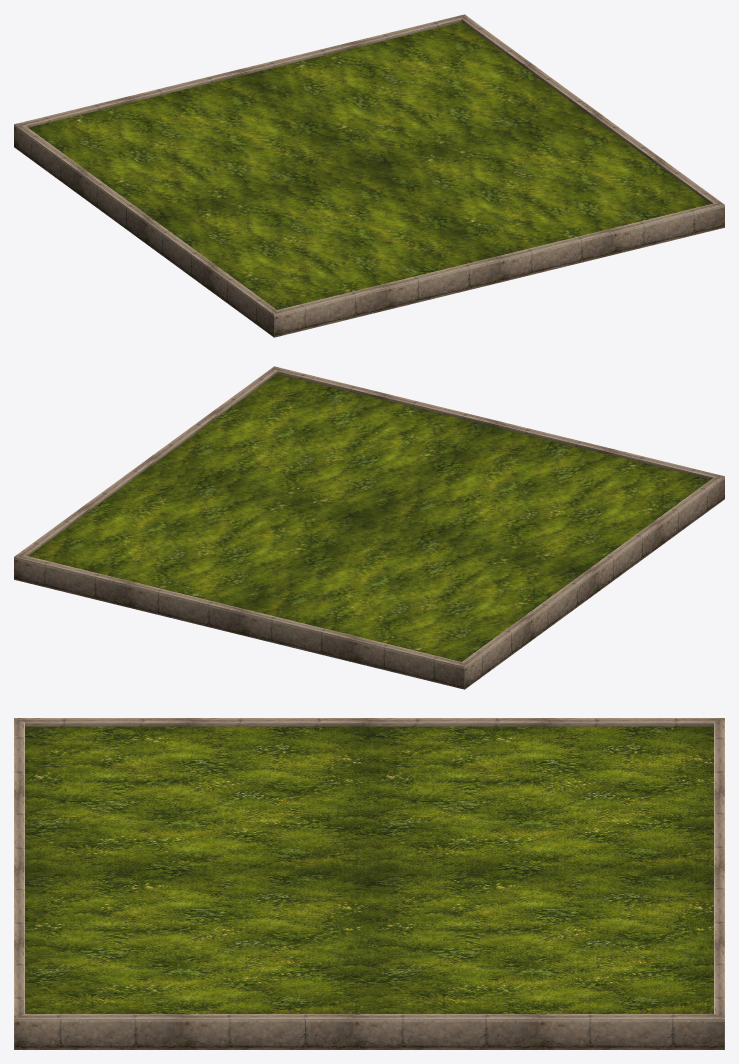
File: Jardin_Central.fbx
3 renders of one model, top to bottom at view 1: azimuth 30°, elevation 25°; view 2: azimuth 150°, elevation 25°; view 3: azimuth 270°, elevation 25°, orthographic. The views are drawn at different scales.
Visible parts, largest first — view 1: Jardin_Central; view 2: Jardin_Central; view 3: Jardin_Central.
Part boxes in pixels (left/top/right/bottom): Jardin_Central: left=14, top=14, right=724, bottom=337; Jardin_Central: left=14, top=366, right=724, bottom=689; Jardin_Central: left=14, top=718, right=724, bottom=1049.
Size of the model in its own units: 0.2702 by 0.0131 by 0.2702.
